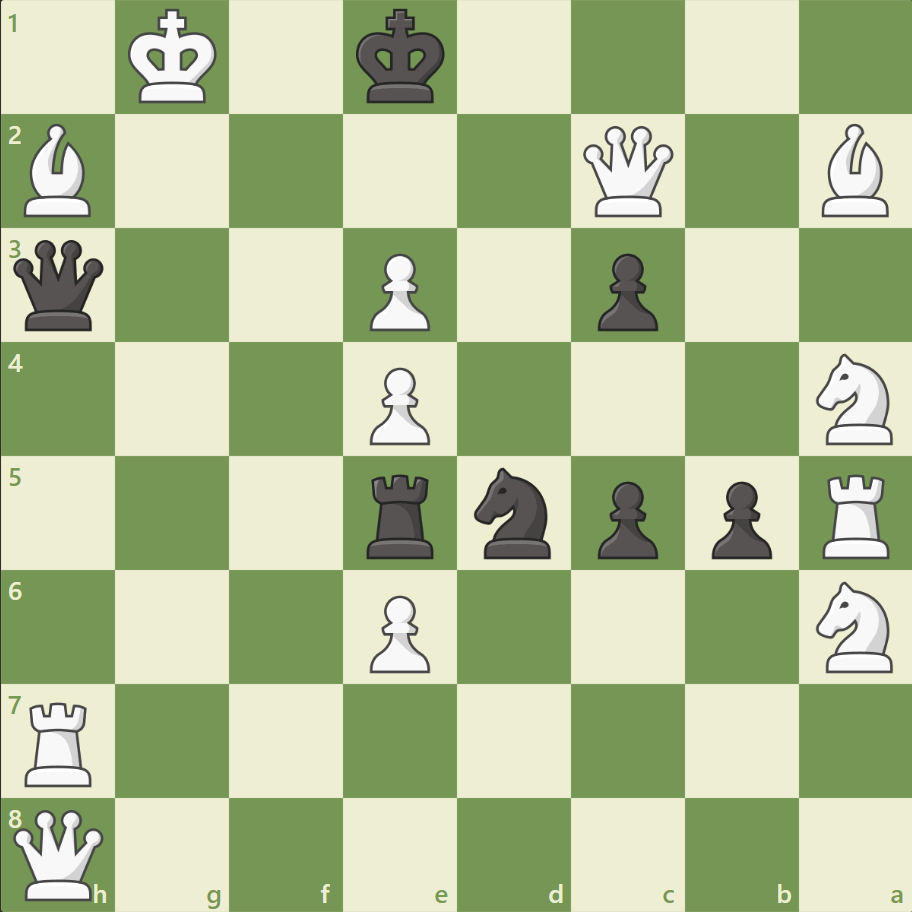B: (812, 120, 896, 222), (17, 120, 101, 222)
K: (124, 4, 224, 112)
N: (806, 575, 903, 677), (806, 348, 903, 450)
P: (361, 586, 435, 677), (361, 359, 435, 450), (361, 246, 435, 337)
Q: (578, 122, 677, 222), (10, 804, 109, 903)
R: (19, 693, 102, 790), (814, 466, 897, 563)
k: (351, 4, 451, 112)
n: (465, 461, 562, 564)
p: (701, 473, 776, 564), (588, 473, 662, 564), (588, 246, 662, 337)
q: (10, 236, 109, 335)
r: (360, 466, 442, 563)
